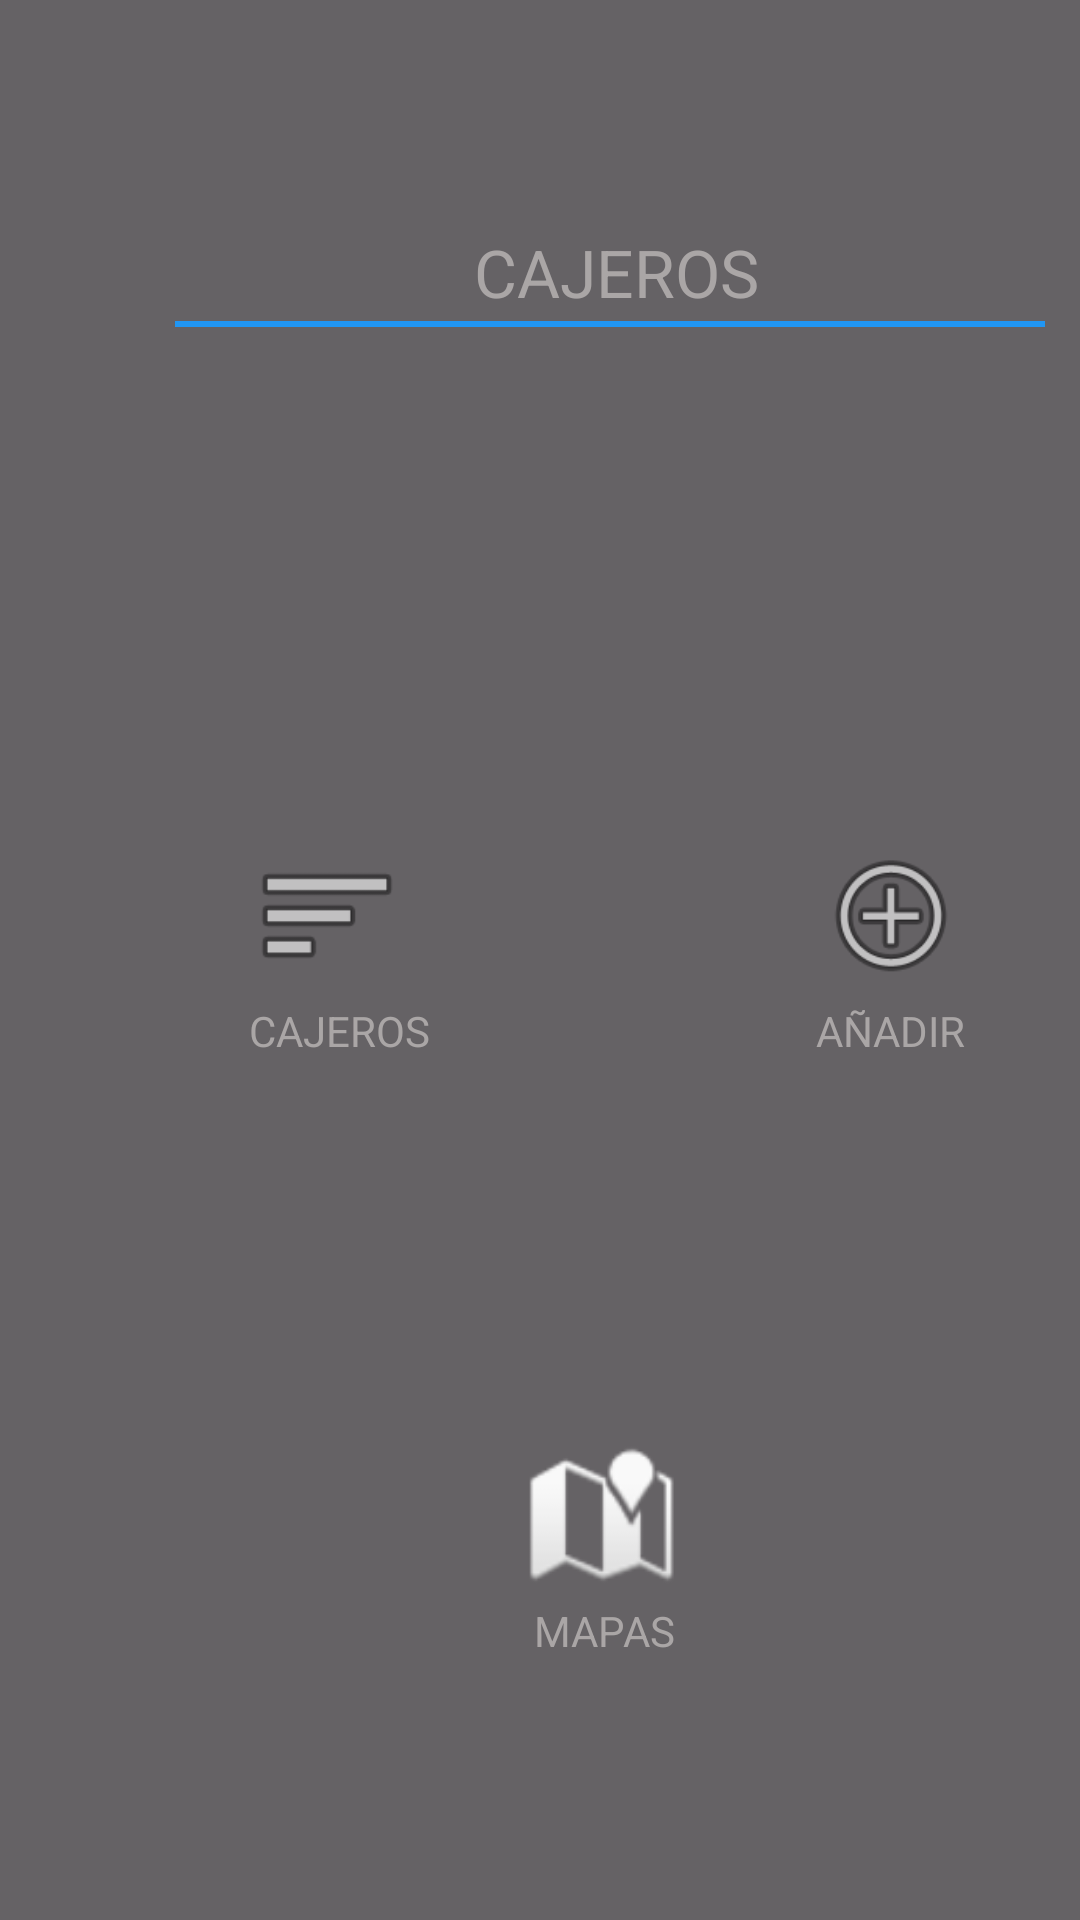

Point at icon controls on the screen. Image size 1080 x 1920, points as (x=x, y=y).
sort by size: (x=327, y=915)
